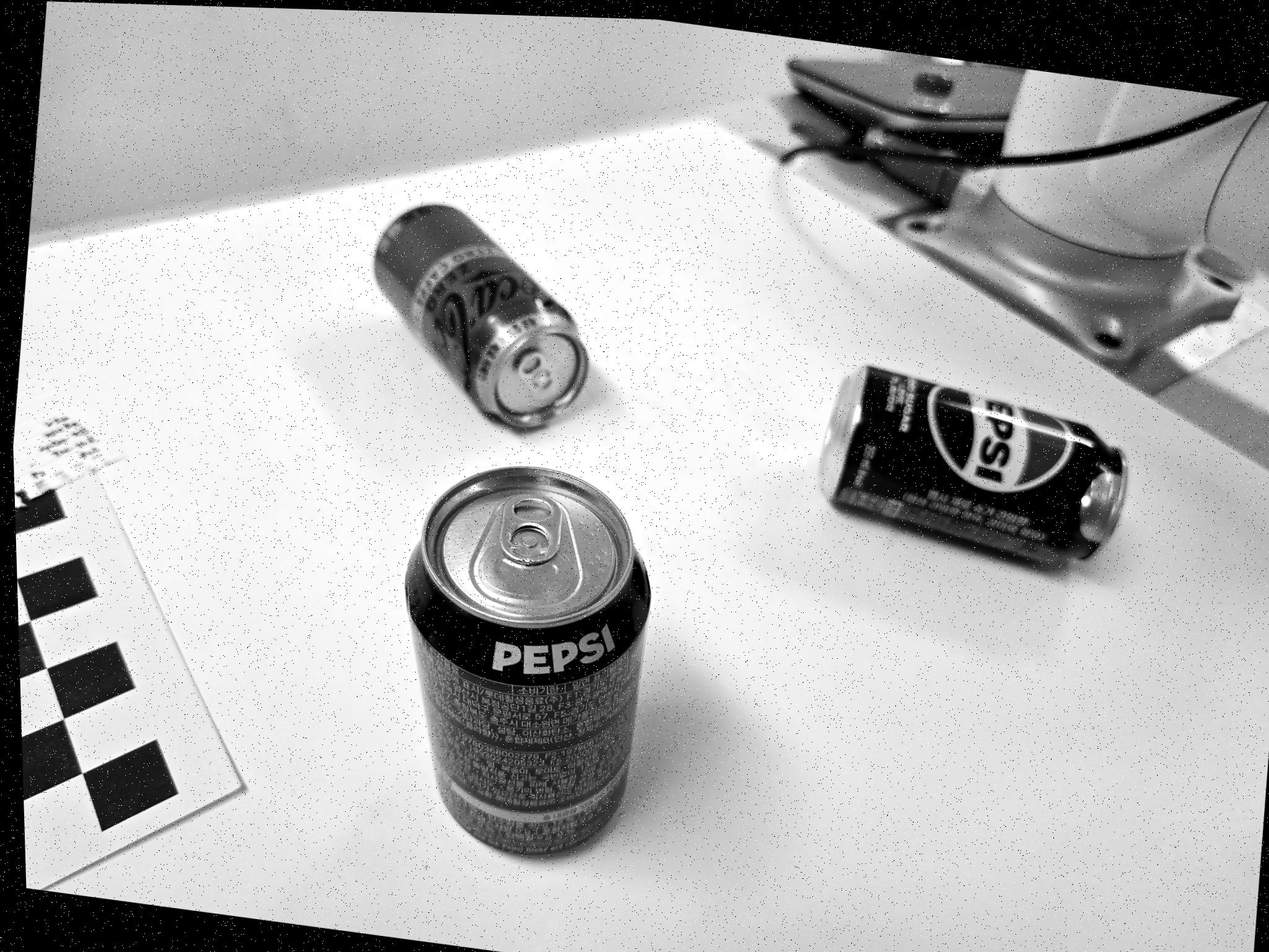can_coke_decaf: (372, 202, 590, 425)
can_pepsi: (407, 467, 645, 853)
can_pepsi_zero: (821, 364, 1128, 572)
